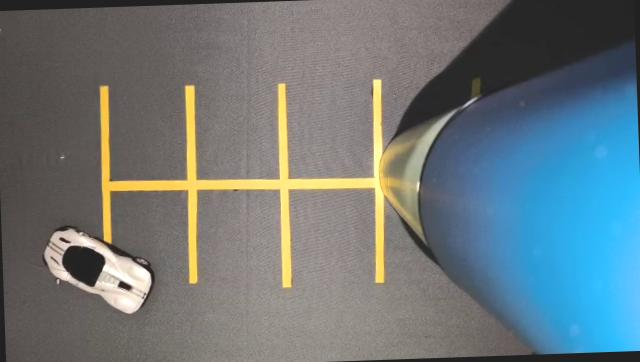toy_car: (30, 200, 186, 347)
